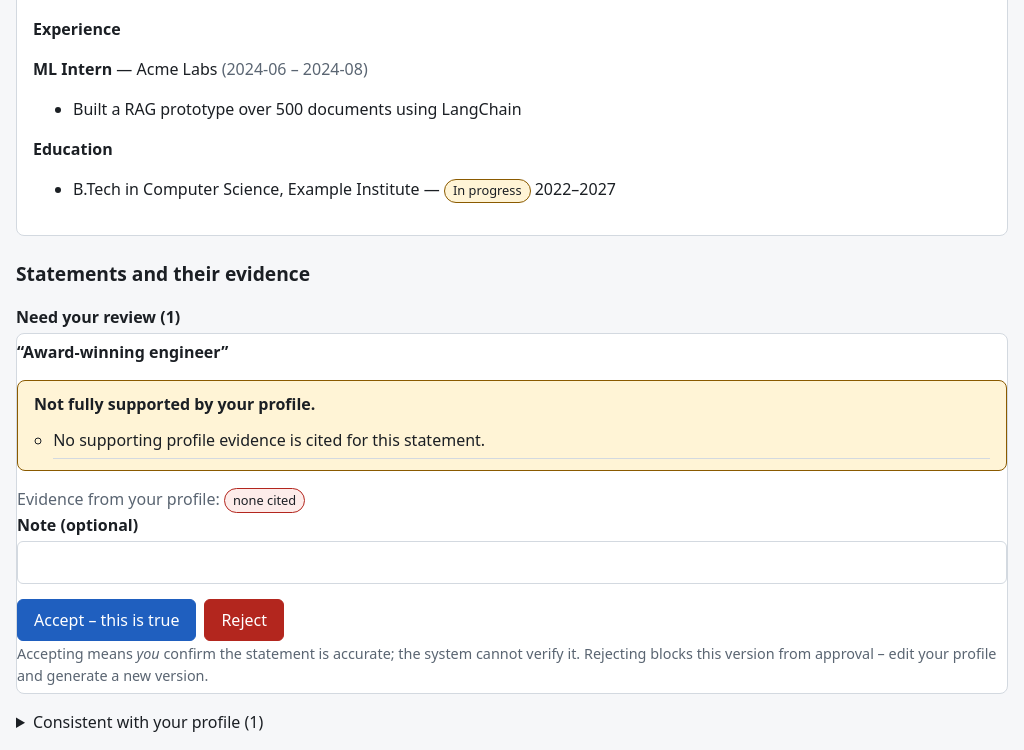
resume studio › rejecting a claim sends the decision and shows the rejected status
(page scrolled)
Type "not true" into the field labelled "Note (optional)" at (512, 563), box x1=17 y1=541 x2=1007 y2=584
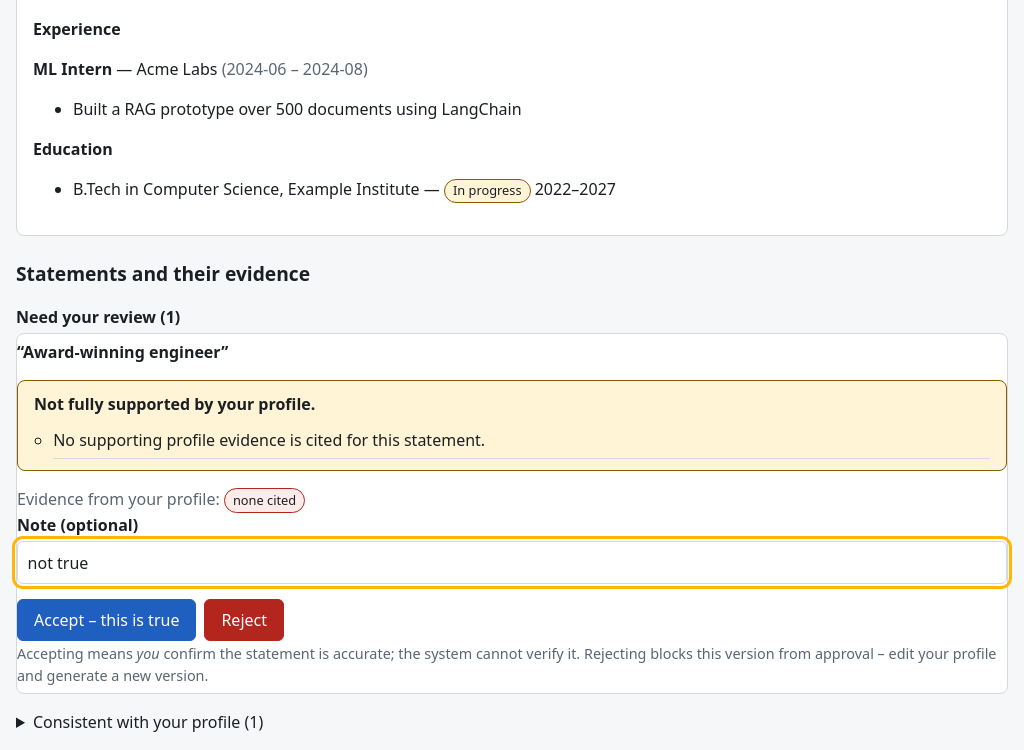
Click the button "Reject" at (244, 620), box x1=204 y1=599 x2=284 y2=641
(page scrolled)
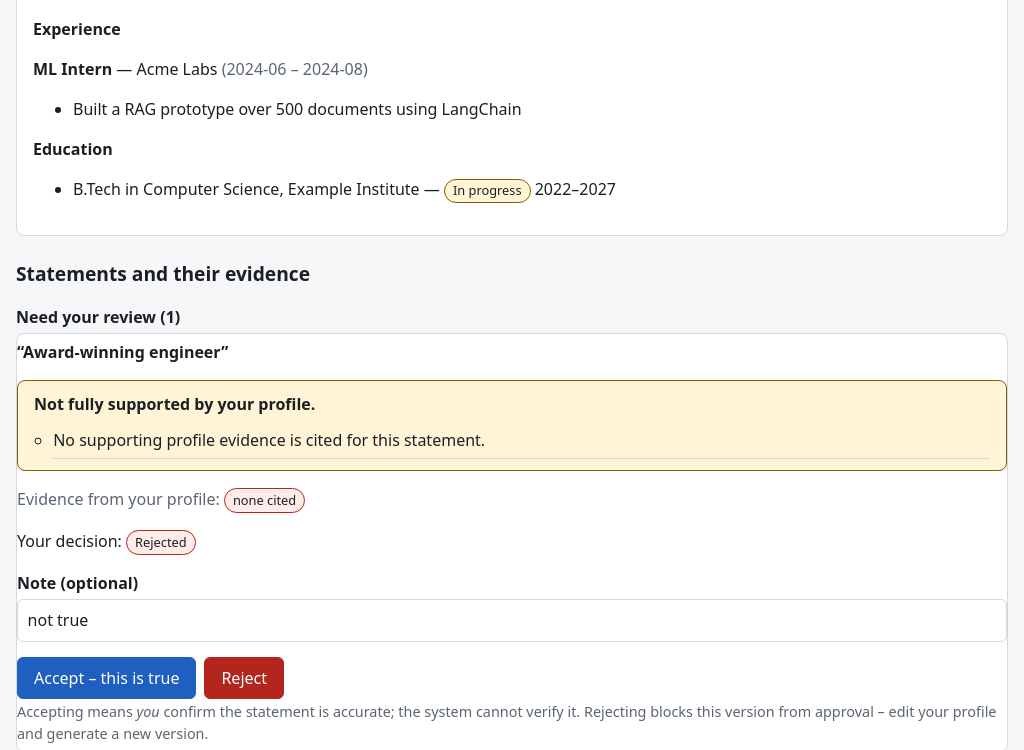
Expected: the text "Rejected" is shown, x1=126 y1=530 x2=196 y2=555
